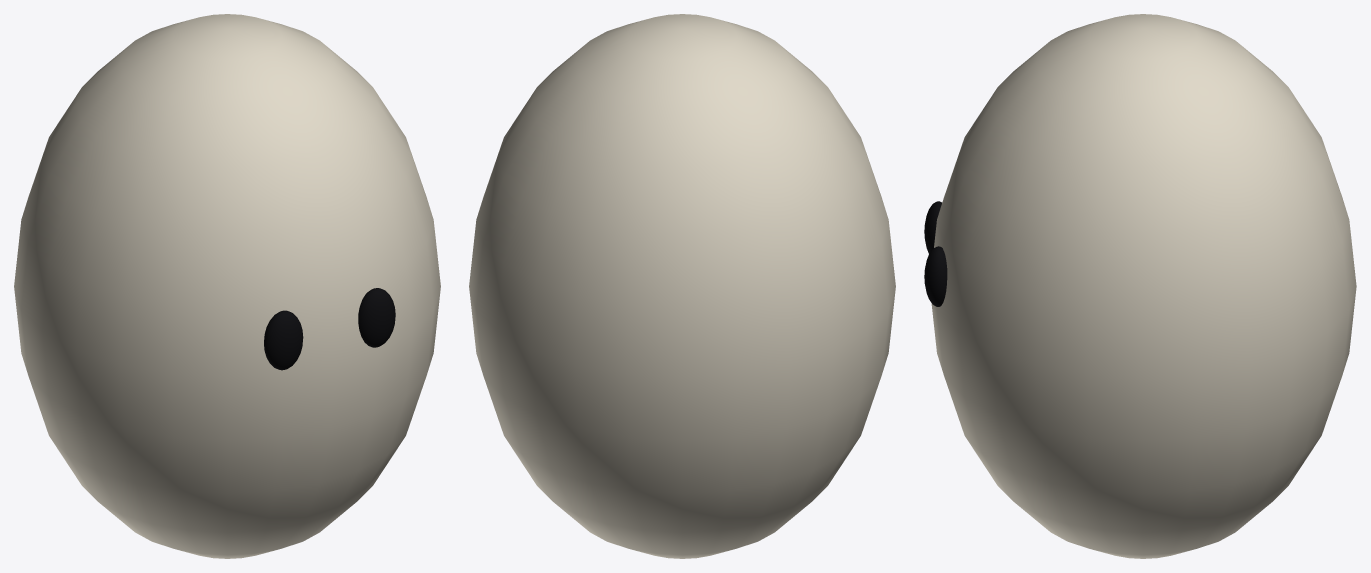
File: Egg.glb
3 renders of one model, left to right at view 1: azimuth 30°, elevation 25°; view 2: azimuth 150°, elevation 25°; view 3: azimuth 270°, elevation 25°, orthographic.
Parts seen in each view (by area): view 1: Sphere, Sphere.001, Sphere.002; view 2: Sphere; view 3: Sphere, Sphere.002, Sphere.001.
Part boxes in pixels (bbox=[...]): Sphere: bbox=[14, 14, 440, 558]; Sphere.001: bbox=[264, 310, 303, 370]; Sphere.002: bbox=[358, 288, 395, 347]; Sphere: bbox=[469, 14, 895, 558]; Sphere: bbox=[931, 14, 1356, 558]; Sphere.002: bbox=[924, 246, 947, 306]; Sphere.001: bbox=[924, 201, 941, 253].
Size of the model in its own units: 0.24 by 0.32 by 0.243.
